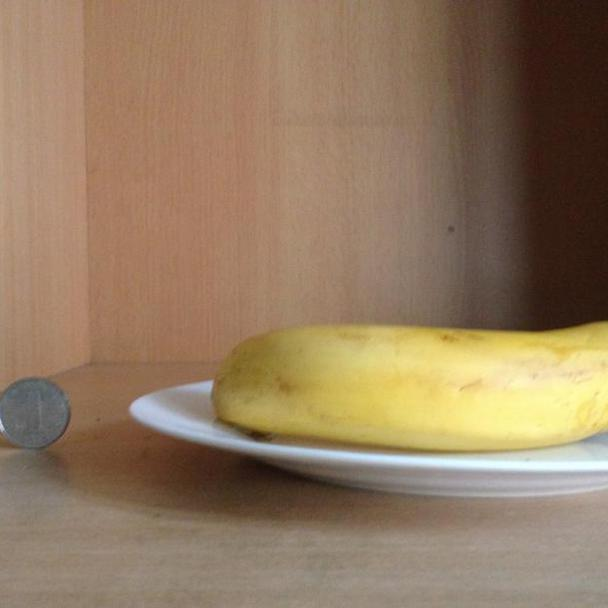banana: (213, 317, 608, 449)
